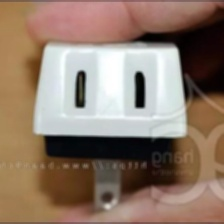three_eye_plug: (28, 35, 190, 216)
